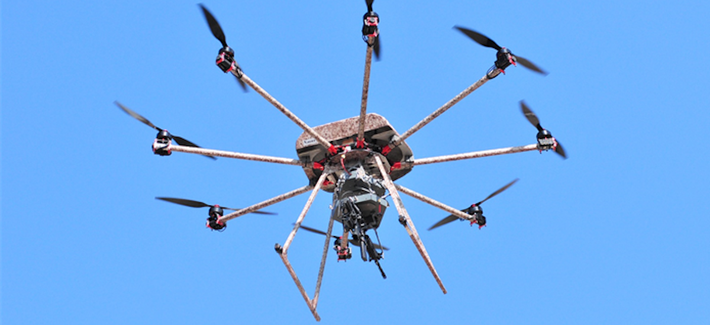drone: (110, 1, 578, 325)
